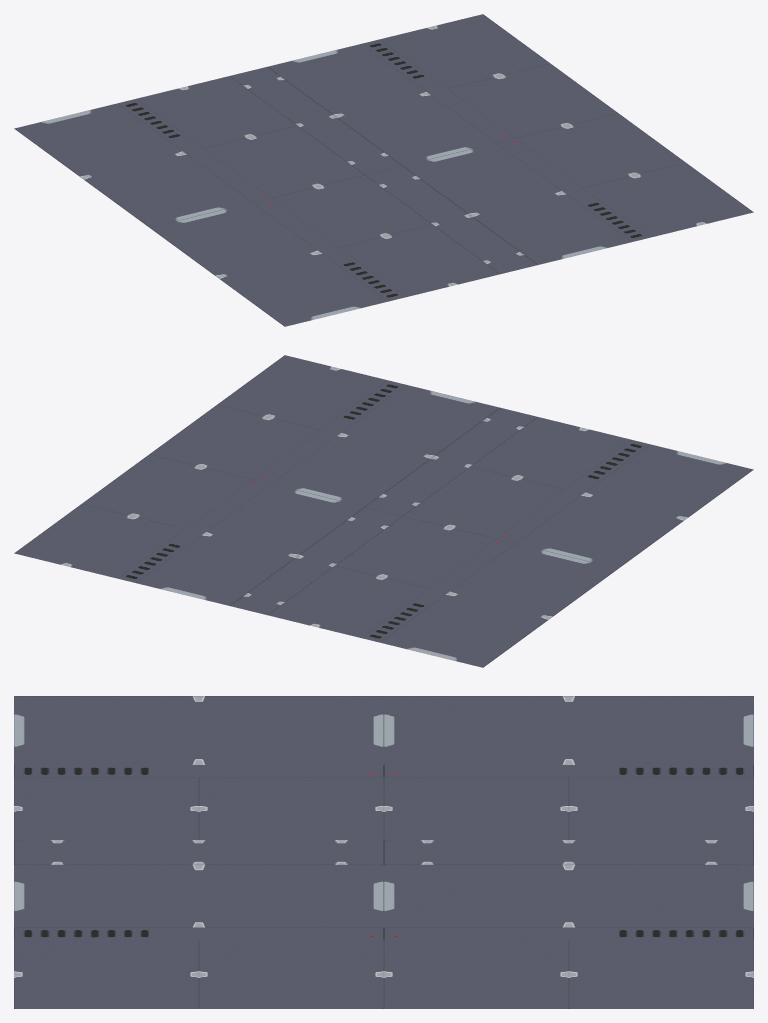
The model's file is Floor_Big_Normal_01.FBX.
3 renders of one model, top to bottom at view 1: azimuth 30°, elevation 25°; view 2: azimuth 150°, elevation 25°; view 3: azimuth 270°, elevation 25°, orthographic. The views are drawn at different scales.
Visible parts, largest first — view 1: Floor_Big_Normal_01; view 2: Floor_Big_Normal_01; view 3: Floor_Big_Normal_01.
Part boxes in pixels (<box>): Floor_Big_Normal_01: <box>14,14,753,326</box>; Floor_Big_Normal_01: <box>14,355,753,667</box>; Floor_Big_Normal_01: <box>14,696,753,1008</box>.
Bounding box in the file's own units: 12 × 2.68e-05 × 12.
2 materials, 2 textured.
